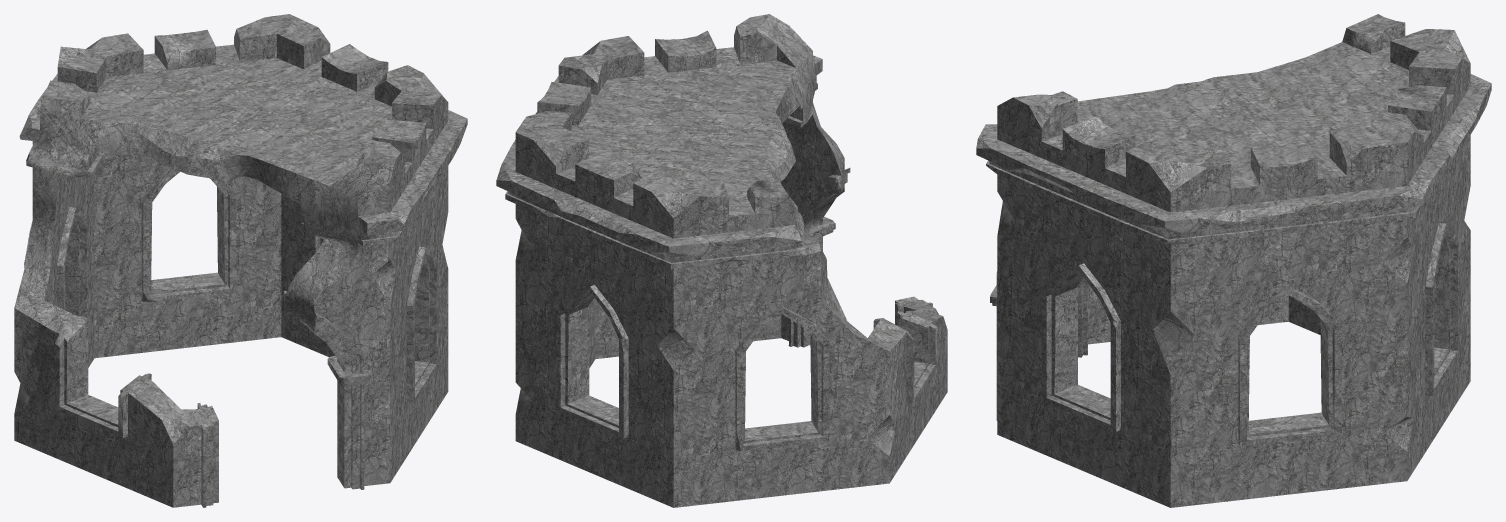
Rendered from materials_3_building_1.fbx.
3 renders of one model, left to right at view 1: azimuth 30°, elevation 25°; view 2: azimuth 150°, elevation 25°; view 3: azimuth 270°, elevation 25°, orthographic. The views are drawn at different scales.
Visible parts, largest first — view 1: materials_3_building_1; view 2: materials_3_building_1; view 3: materials_3_building_1.
Boxes of the visible parts, bbox=[...] form: materials_3_building_1: bbox=[14, 14, 467, 507]; materials_3_building_1: bbox=[496, 14, 947, 507]; materials_3_building_1: bbox=[976, 14, 1491, 507].
Bounding box in the file's own units: 507 × 389 × 528.
